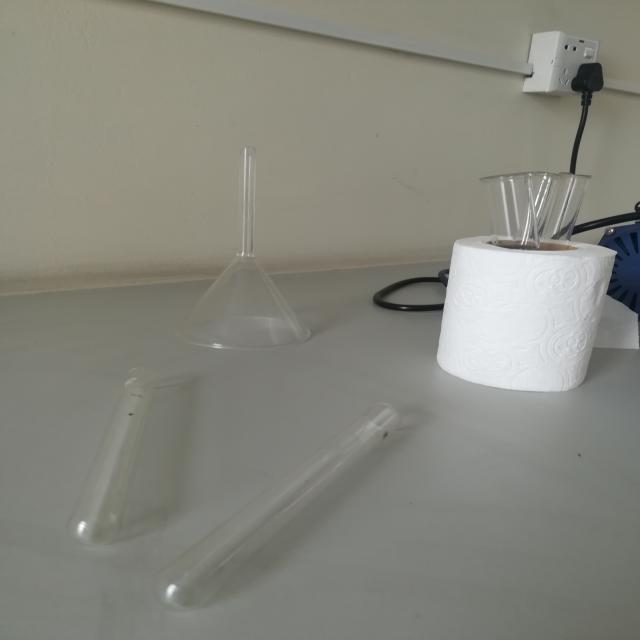Funnel: (160, 129, 350, 363)
Test_Tube: (147, 397, 446, 629), (28, 339, 164, 565)
